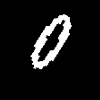chain: (31, 15, 70, 68)
